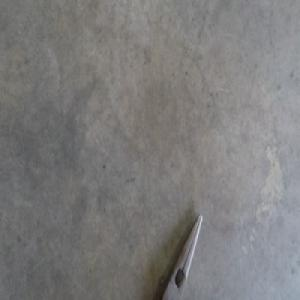Pliers: (162, 213, 202, 298)
